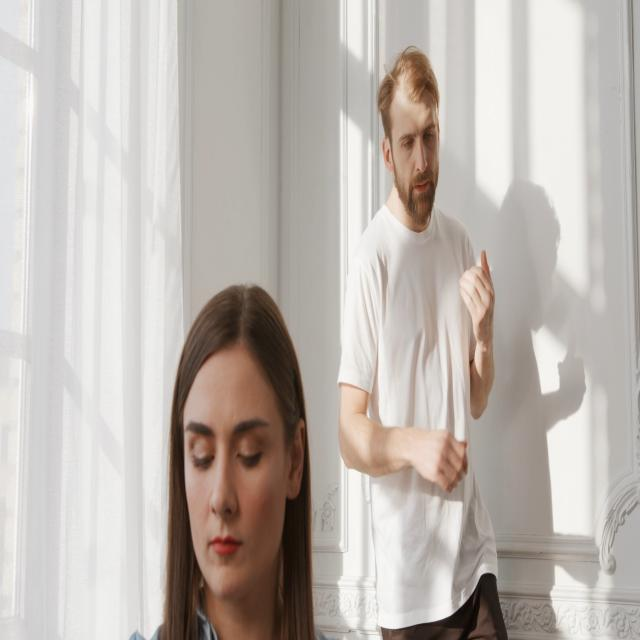confused: (365, 35, 457, 226)
sad: (181, 346, 306, 595)
